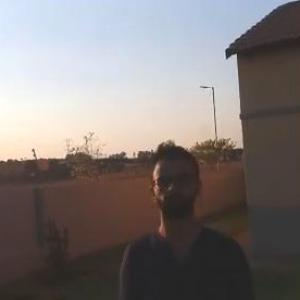follow: (115, 136, 264, 299)
